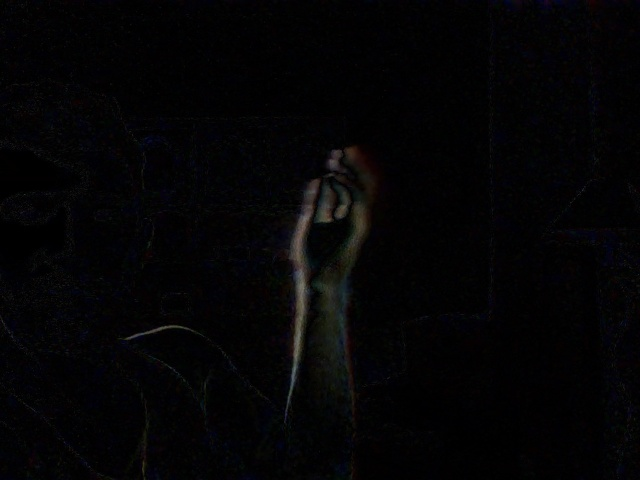arm_fo: (277, 130, 376, 436)
